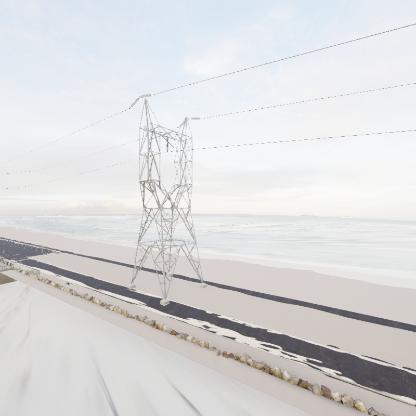tower: (124, 90, 210, 310)
